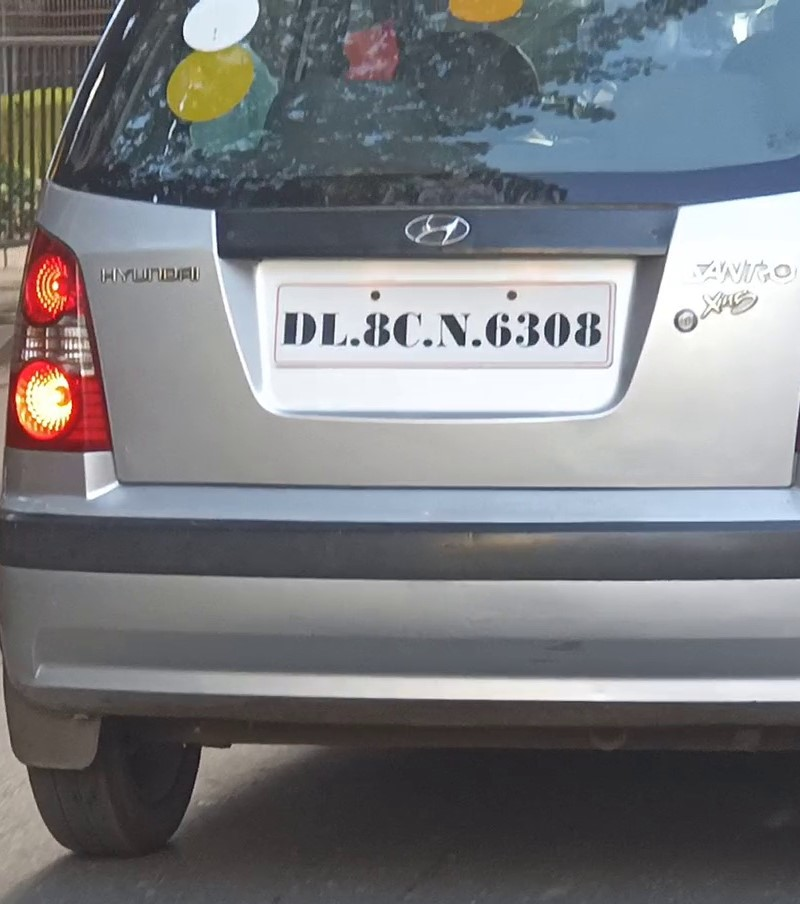DL8CN6308: (276, 285, 609, 364)
